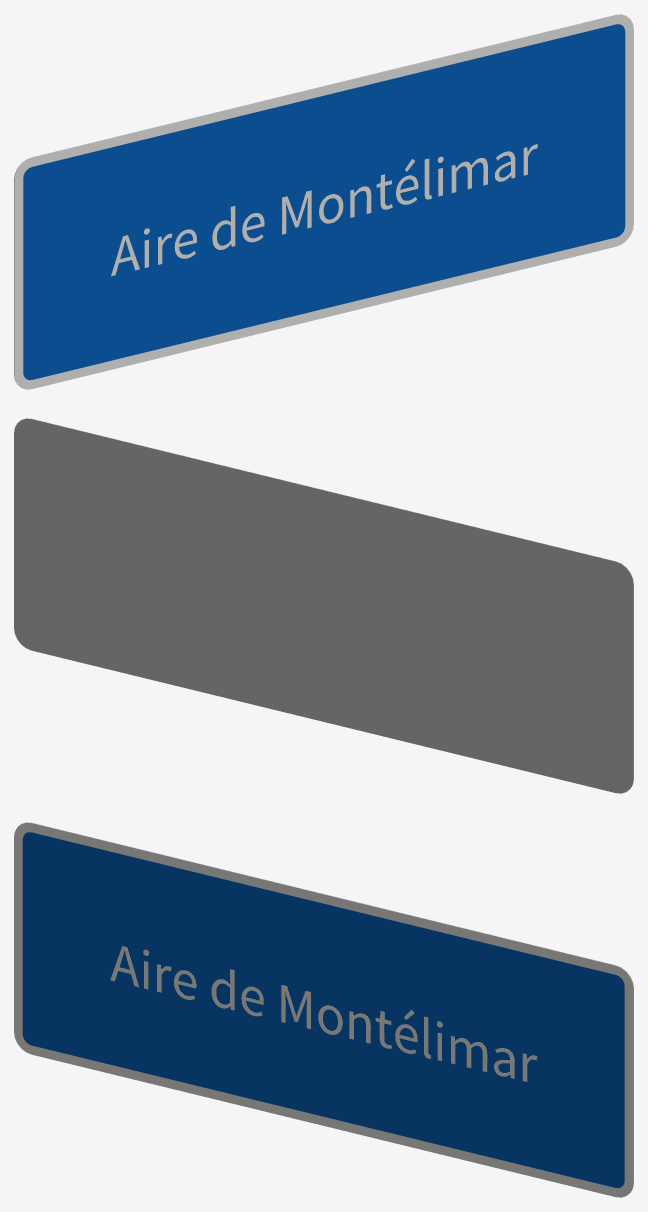
3 renders of one model, top to bottom at view 1: azimuth 30°, elevation 25°; view 2: azimuth 150°, elevation 25°; view 3: azimuth 330°, elevation 25°, orthographic.
Parts seen in each view (by area): view 1: E34c_fond01, E34c_cadre00, E34c_txt02, E34c_dos; view 2: E34c_dos; view 3: E34c_fond01, E34c_cadre00, E34c_txt02, E34c_dos.
Boxes of the visible parts, x1=… form: E34c_fond01: x1=23, y1=24, x2=625, y2=380; E34c_cadre00: x1=14, y1=14, x2=633, y2=389; E34c_txt02: x1=111, y1=144, x2=537, y2=276; E34c_dos: x1=14, y1=14, x2=622, y2=384; E34c_dos: x1=14, y1=418, x2=633, y2=793; E34c_fond01: x1=22, y1=832, x2=624, y2=1188; E34c_cadre00: x1=14, y1=822, x2=633, y2=1197; E34c_txt02: x1=110, y1=946, x2=537, y2=1081; E34c_dos: x1=25, y1=822, x2=633, y2=1192.
Size of the model in its own units: 1.4 by 0.5 by 0.0025.
